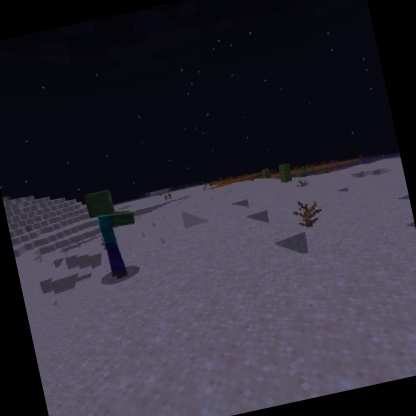zombie: (79, 180, 151, 288)
